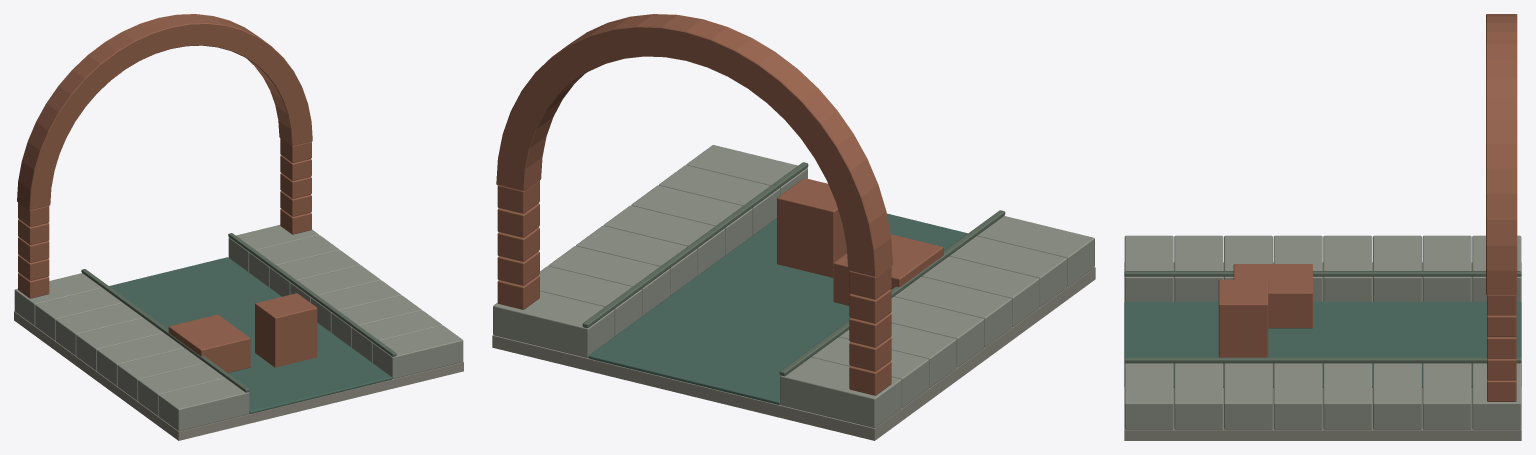
The model's file is undercity-sewers-and-thieves-den-brick-barrel-collapse-24cbe6db__25029.glb.
3 views of the same model, side by side, from view 1: azimuth 30°, elevation 25°; view 2: azimuth 150°, elevation 25°; view 3: azimuth 270°, elevation 25° (orthographic). The views are drawn at different scales.
Parts seen in each view (by area): view 1: brick-barrel-collapsed; view 2: brick-barrel-collapsed; view 3: brick-barrel-collapsed.
Part boxes in pixels (left/top/right/bottom): brick-barrel-collapsed: left=14, top=14, right=463, bottom=440; brick-barrel-collapsed: left=492, top=14, right=1095, bottom=440; brick-barrel-collapsed: left=1124, top=14, right=1521, bottom=440.
Size of the model in its own units: 4 by 3.61 by 4.
